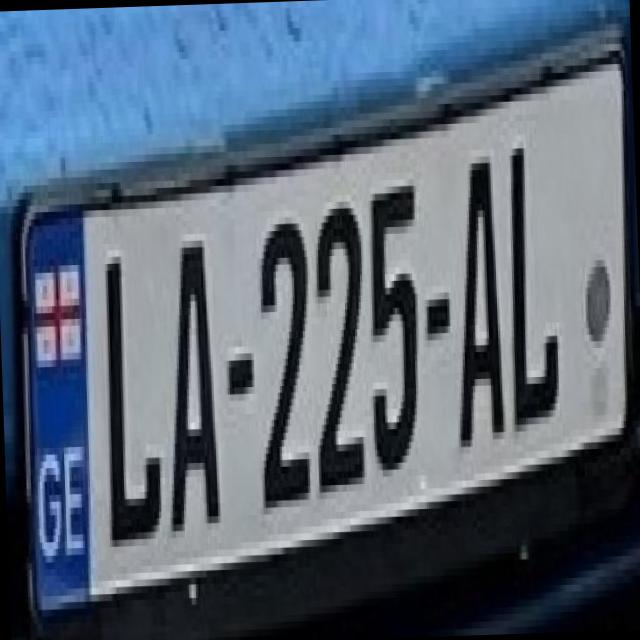2: (245, 189, 315, 508), (308, 180, 374, 486)
5: (358, 158, 430, 470)
A: (148, 219, 234, 531), (436, 128, 515, 447)
L: (82, 220, 176, 548), (494, 120, 567, 438)
